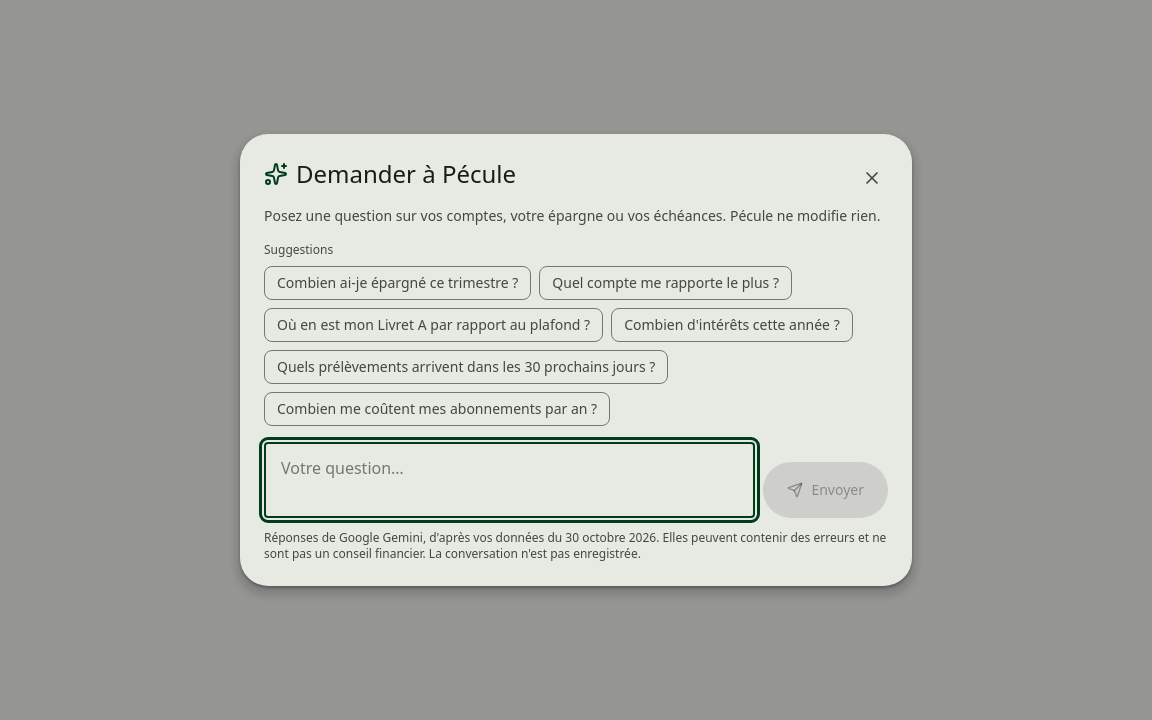
Test: Demander à Pécule › erreur : message en français, question remise dans le champ
Type "Mon Livret A ?" into the text box labelled "Votre question" at (510, 480), box [264,442,755,518]
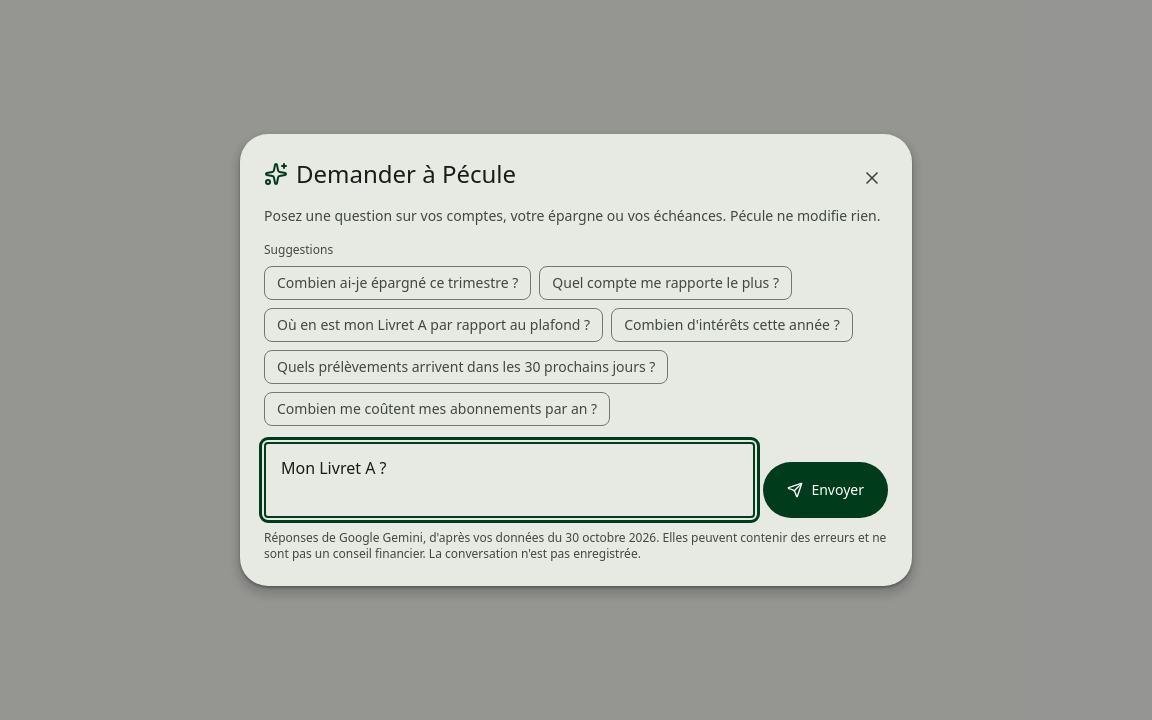
Click the button with aria-label "Envoyer la question" at (826, 490), box [763,462,888,518]
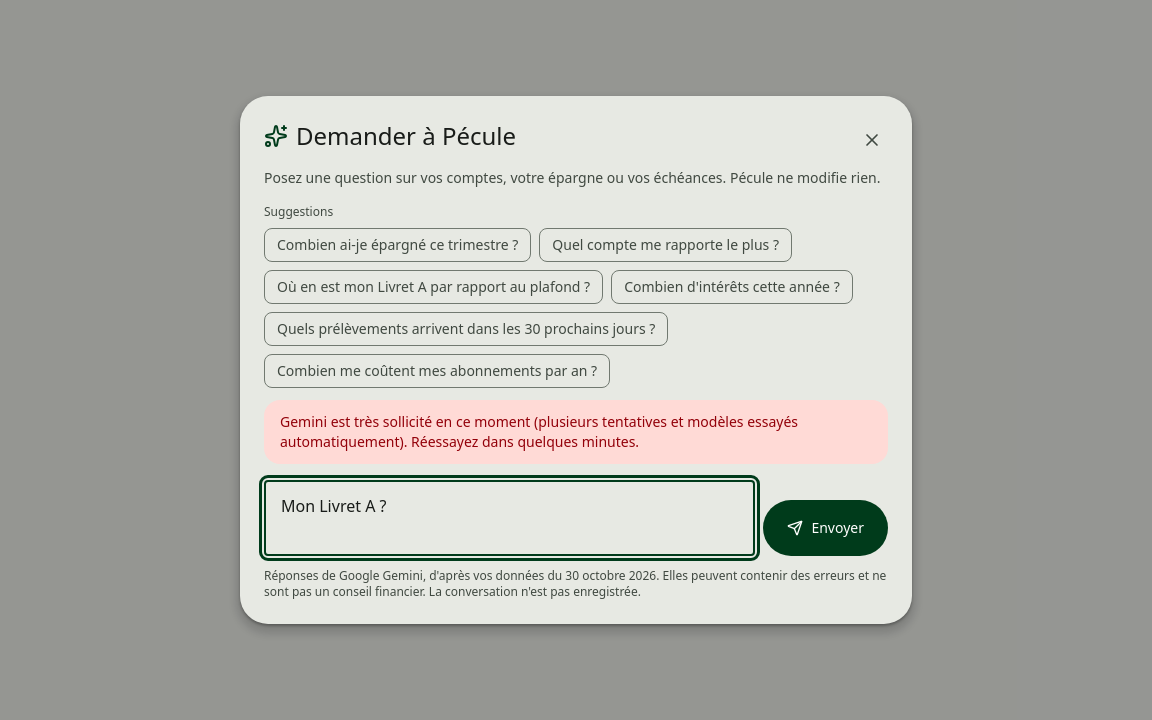
Expected: the message shows "très sollicité", [280,412,798,451]
